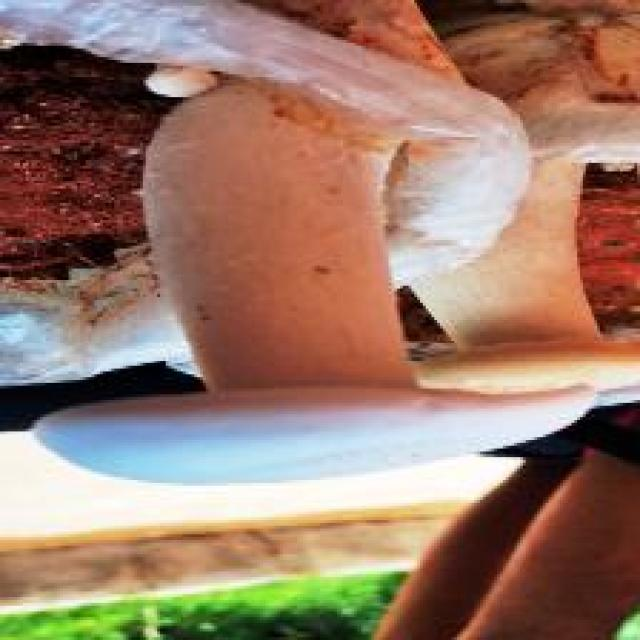death-cap: (0, 0, 637, 551)
